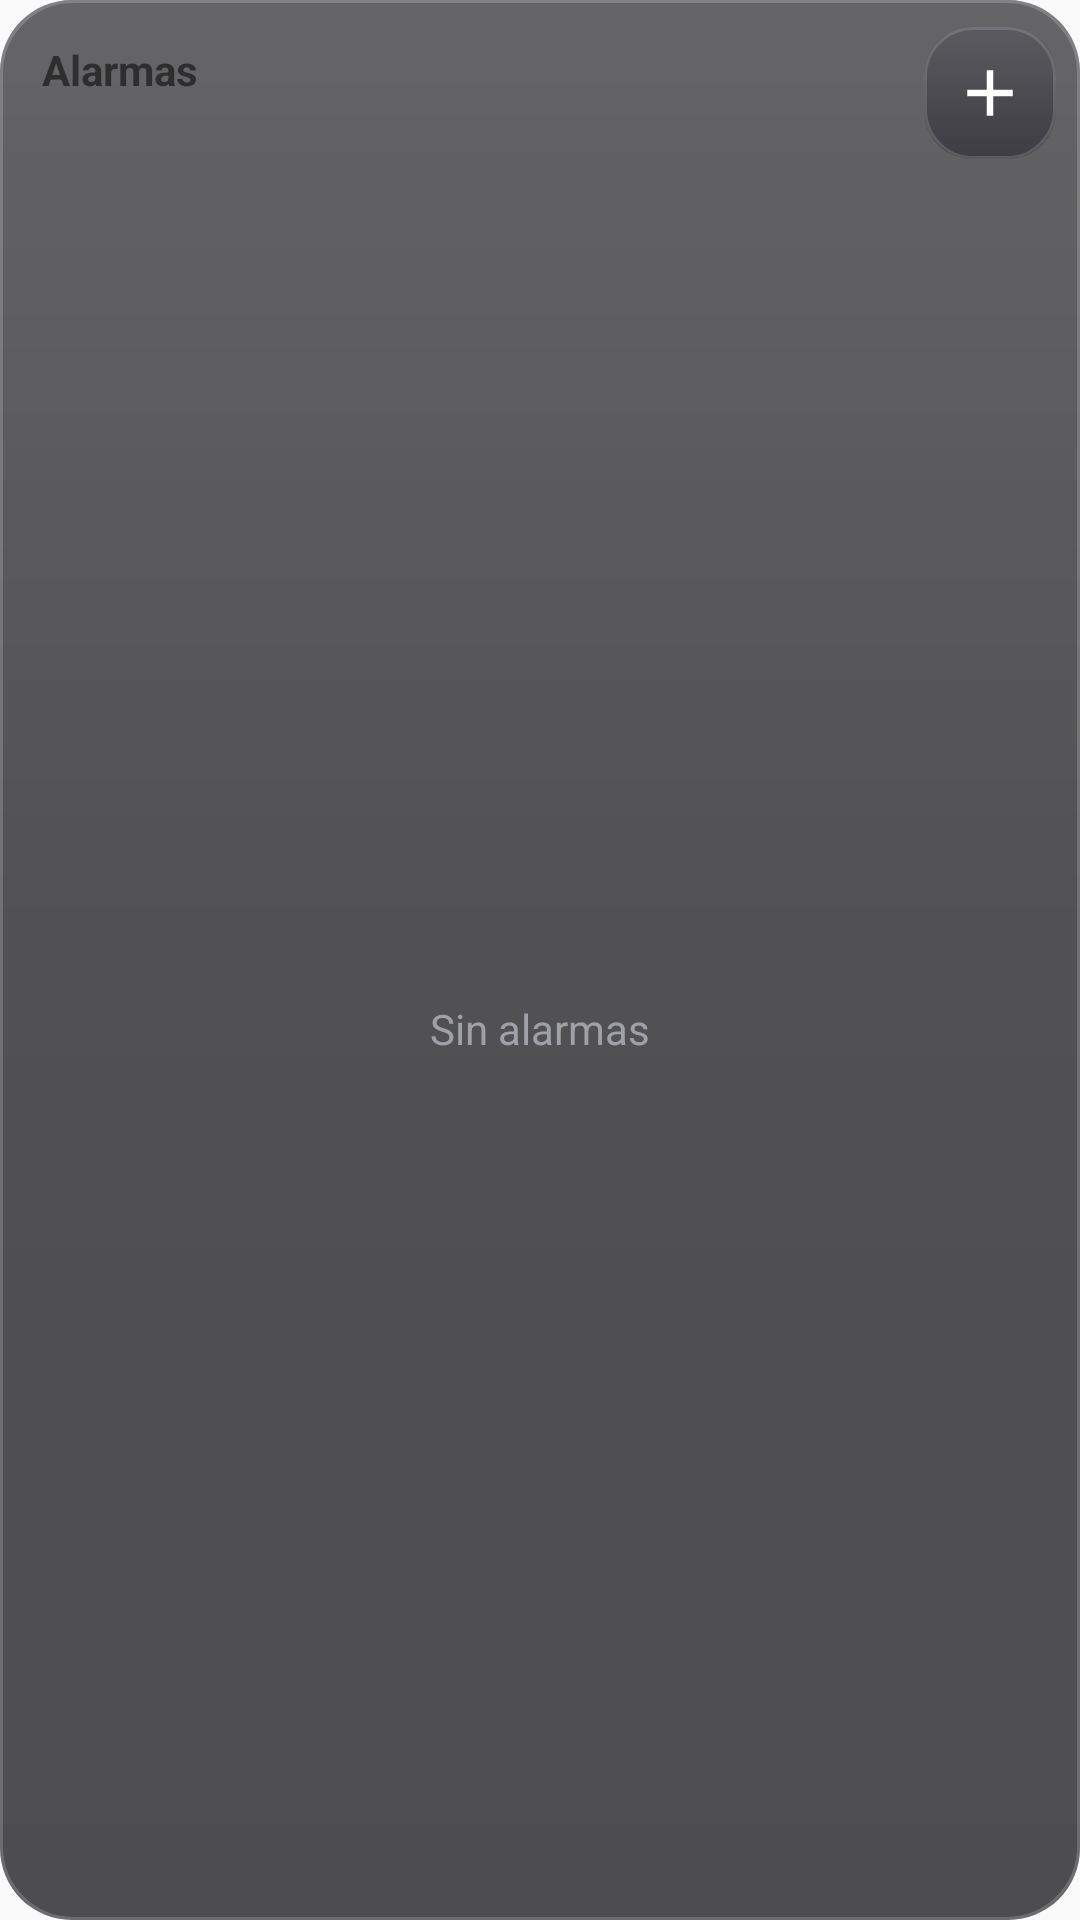

Locate icon controls on the screen. Image size 1080*1920, boxes as (x1, y1, x2, y2).
Nueva alarma: (927, 70, 1053, 156)
